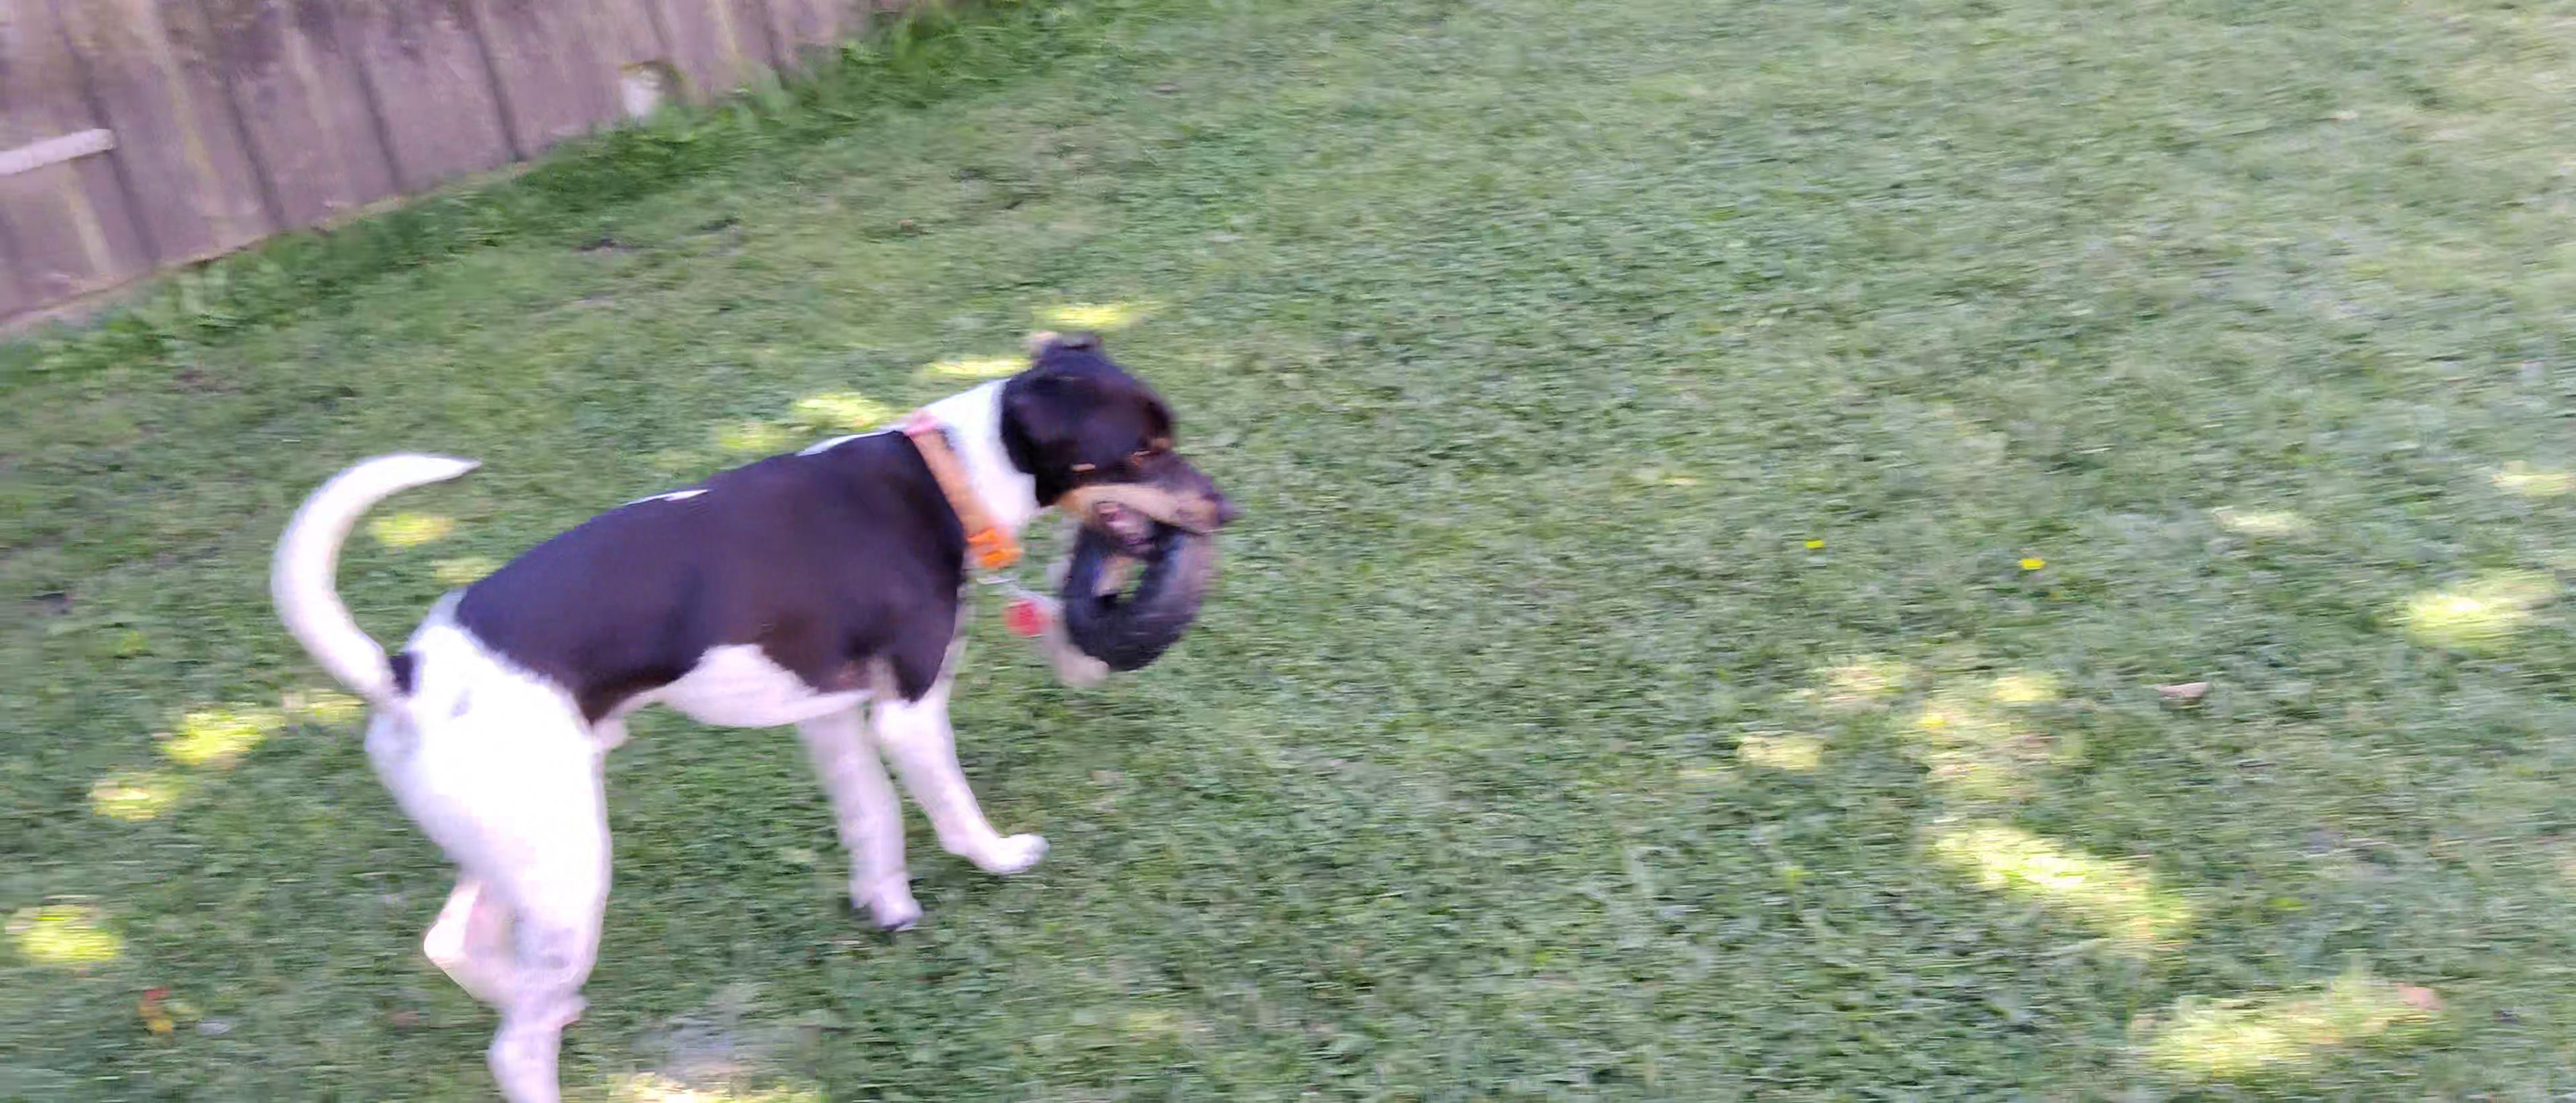Dog: (261, 322, 1252, 1103)
